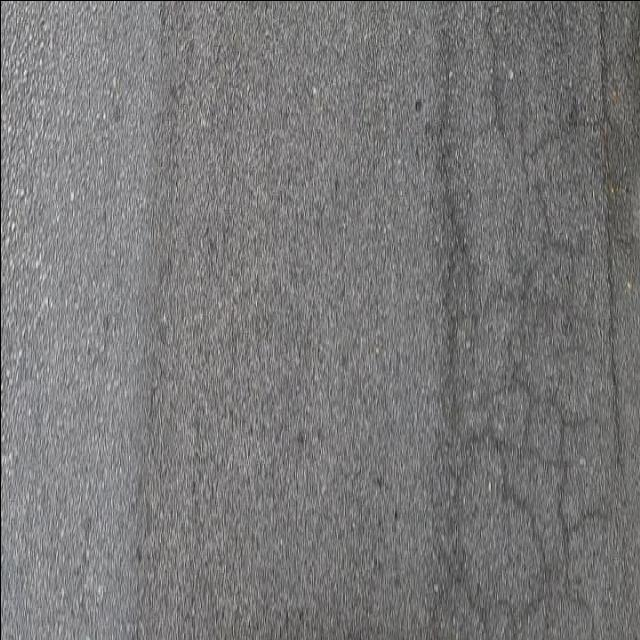cracks: (413, 1, 640, 640)
